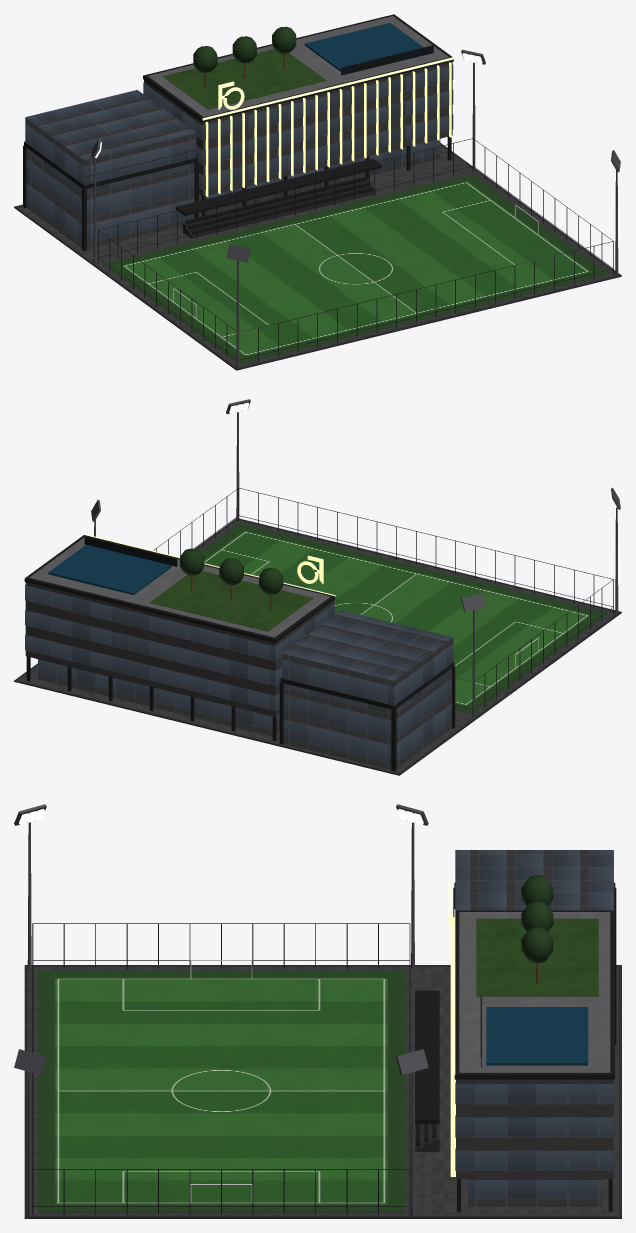
The model's file is training_L5.glb.
3 views of the same model, one above another, from view 1: azimuth 30°, elevation 25°; view 2: azimuth 150°, elevation 25°; view 3: azimuth 270°, elevation 25° (orthographic). The views are drawn at different scales.
Visible parts, largest first — view 1: turf_train_training_L5, emissive_curtain_training_L5, black_metal_training_L5, paving_training_L5, cladding_training_L5, emissive_led_training_L5, lawn_training_L5, roofing_training_L5, concrete_dark_training_L5, water_training_L5, steel_training_L5, foliage_training_L5 (+1 smaller); view 2: emissive_curtain_training_L5, turf_train_training_L5, cladding_training_L5, black_metal_training_L5, paving_training_L5, lawn_training_L5, roofing_training_L5, water_training_L5, concrete_dark_training_L5, steel_training_L5, foliage_training_L5, glass_training_L5 (+1 smaller); view 3: turf_train_training_L5, emissive_curtain_training_L5, paving_training_L5, black_metal_training_L5, roofing_training_L5, lawn_training_L5, cladding_training_L5, water_training_L5, concrete_dark_training_L5, steel_training_L5, foliage_training_L5, emissive_led_training_L5.
Boxes of the visible parts, left/top/right/bottom form: turf_train_training_L5: left=103, top=174, right=608, bottom=363; emissive_curtain_training_L5: left=25, top=65, right=453, bottom=249; black_metal_training_L5: left=23, top=14, right=613, bottom=361; paving_training_L5: left=18, top=145, right=615, bottom=367; cladding_training_L5: left=144, top=61, right=452, bottom=196; emissive_led_training_L5: left=202, top=57, right=453, bottom=196; lawn_training_L5: left=163, top=49, right=326, bottom=109; roofing_training_L5: left=148, top=16, right=448, bottom=116; concrete_dark_training_L5: left=14, top=143, right=621, bottom=370; water_training_L5: left=304, top=23, right=423, bottom=71; steel_training_L5: left=91, top=49, right=620, bottom=368; foliage_training_L5: left=193, top=26, right=296, bottom=72; emissive_curtain_training_L5: left=25, top=585, right=453, bottom=769; turf_train_training_L5: left=201, top=523, right=608, bottom=713; cladding_training_L5: left=25, top=582, right=334, bottom=716; black_metal_training_L5: left=24, top=488, right=613, bottom=771; paving_training_L5: left=17, top=520, right=616, bottom=773; lawn_training_L5: left=149, top=571, right=313, bottom=631; roofing_training_L5: left=29, top=537, right=330, bottom=637; water_training_L5: left=48, top=544, right=171, bottom=594; concrete_dark_training_L5: left=14, top=518, right=621, bottom=775; steel_training_L5: left=91, top=399, right=620, bottom=717; foliage_training_L5: left=180, top=548, right=283, bottom=594; glass_training_L5: left=84, top=537, right=177, bottom=566; turf_train_training_L5: left=38, top=970, right=404, bottom=1212; emissive_curtain_training_L5: left=455, top=850, right=614, bottom=1206; paving_training_L5: left=27, top=966, right=618, bottom=1215; black_metal_training_L5: left=32, top=882, right=616, bottom=1214; roofing_training_L5: left=459, top=912, right=610, bottom=1072; lawn_training_L5: left=476, top=918, right=598, bottom=996; cladding_training_L5: left=456, top=1079, right=613, bottom=1179; water_training_L5: left=486, top=1007, right=588, bottom=1065; concrete_dark_training_L5: left=24, top=965, right=621, bottom=1218; steel_training_L5: left=14, top=804, right=428, bottom=1215; foliage_training_L5: left=521, top=875, right=553, bottom=963; emissive_led_training_L5: left=448, top=877, right=455, bottom=1176.
Bounding box in the file's own units: 60.05 × 21.1 × 59.64.
16 materials, 7 textured.
